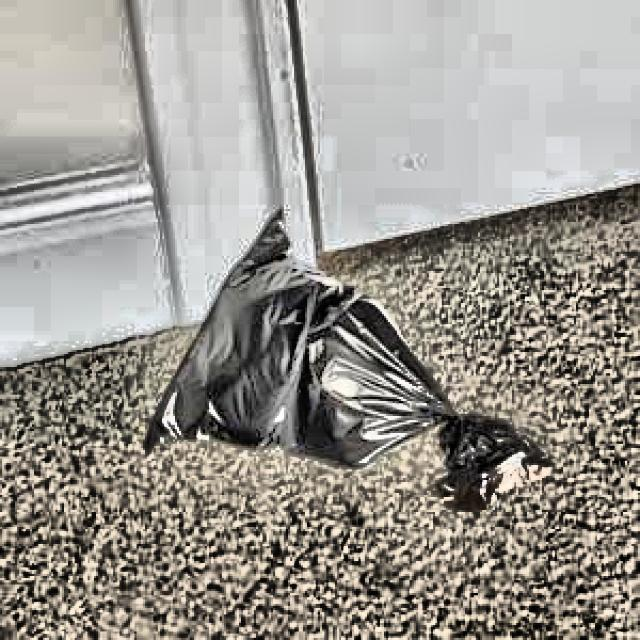Trashbag: (138, 206, 554, 528)
